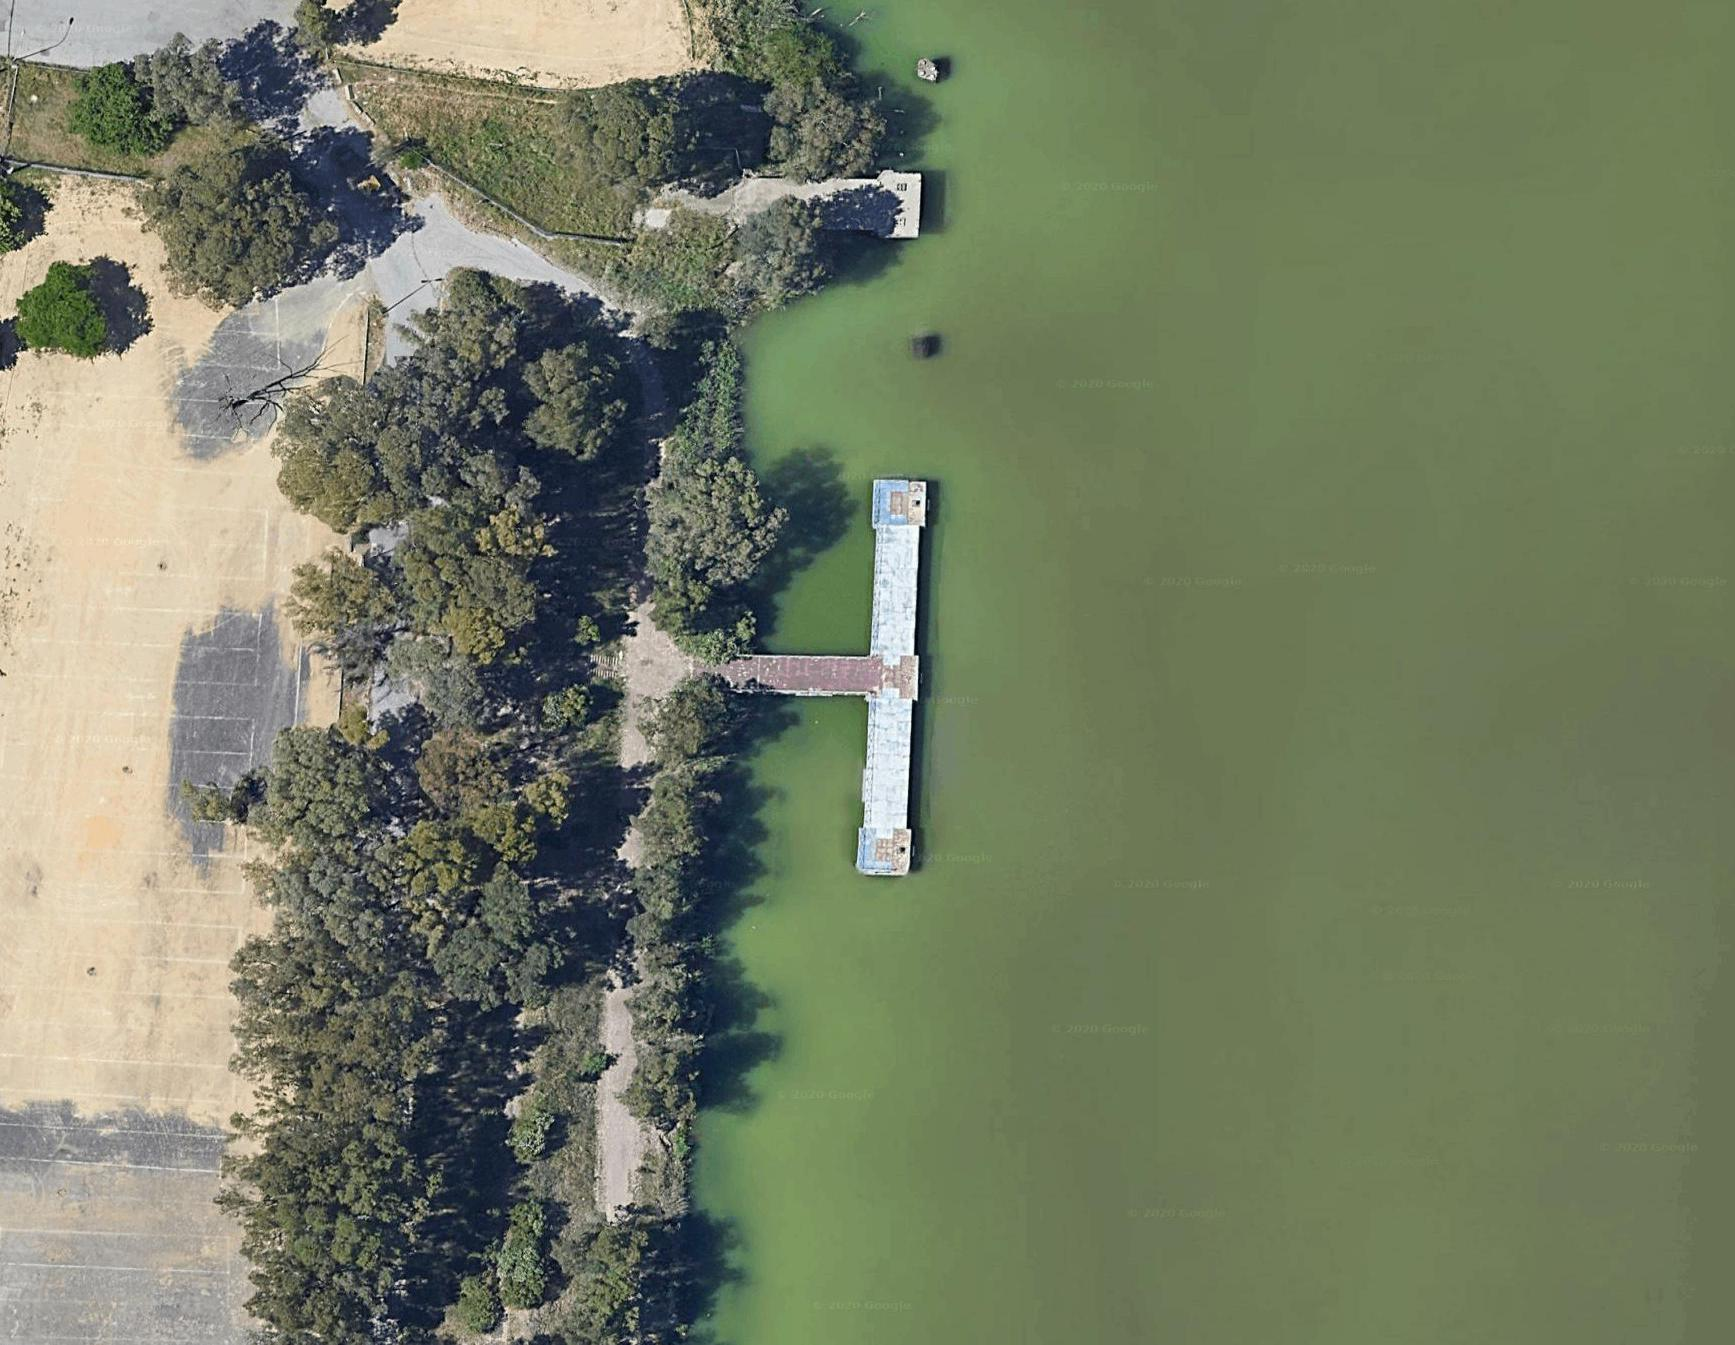harbor: (724, 472, 935, 870), (735, 141, 939, 265)
